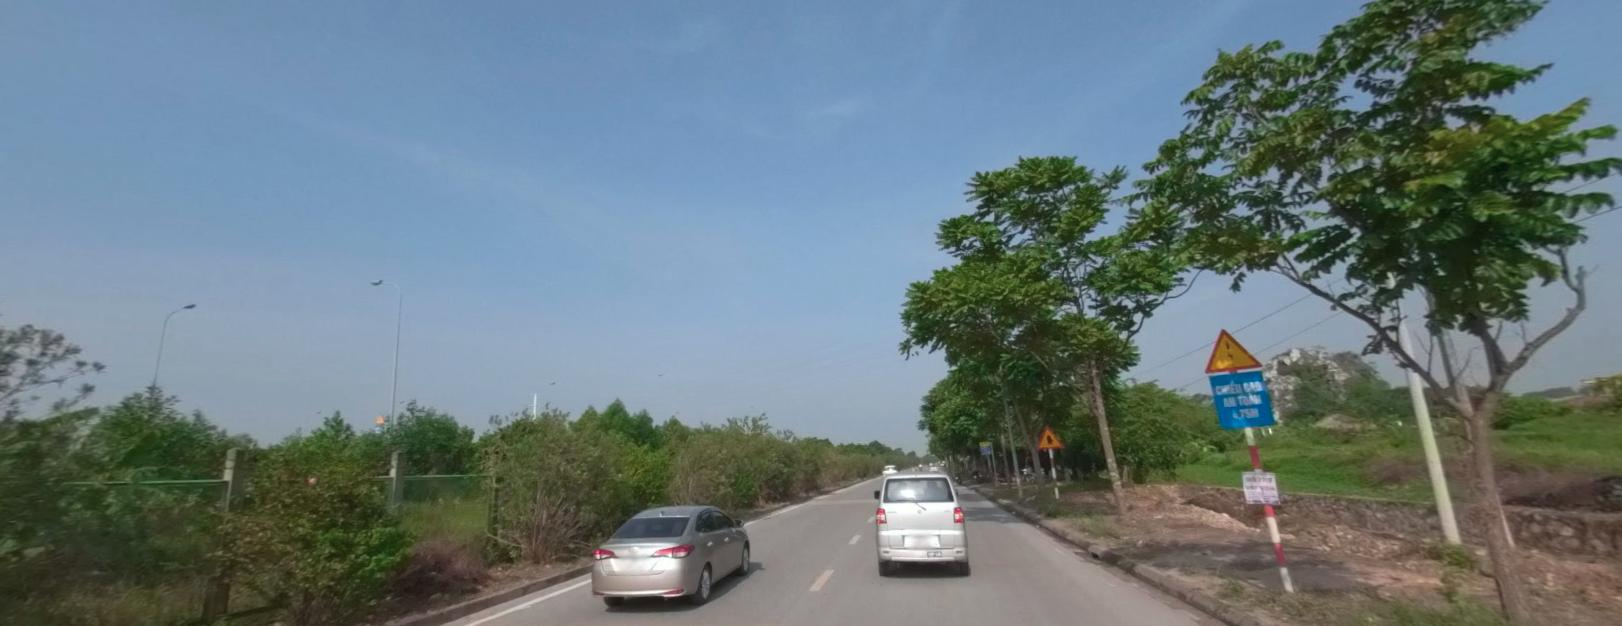Nguy hiem: (1204, 326, 1263, 371), (1035, 426, 1063, 448)
